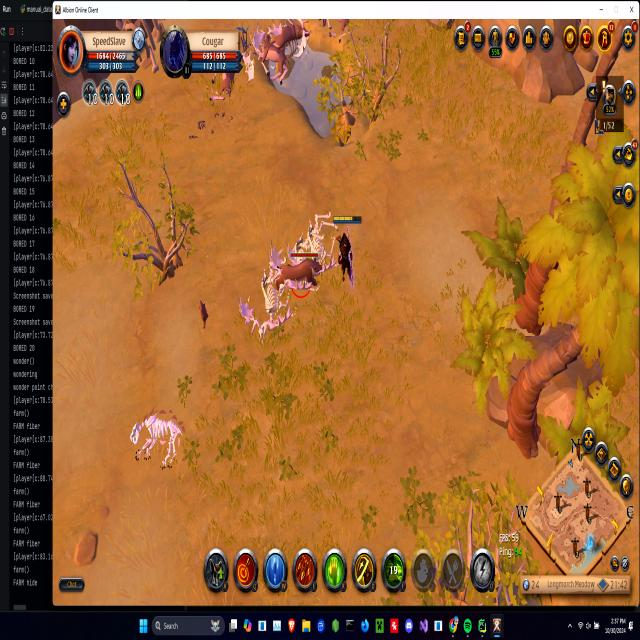mob: (251, 25, 291, 85), (267, 18, 313, 54)
ore: (270, 244, 326, 304)
red: (331, 212, 362, 288)
